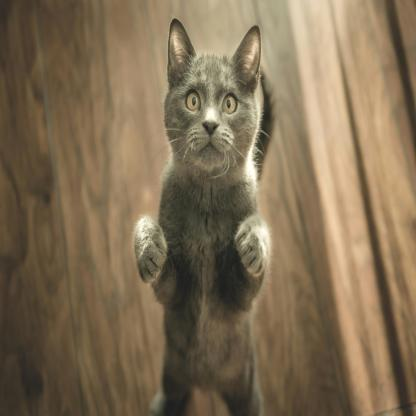cat: (129, 16, 279, 416)
